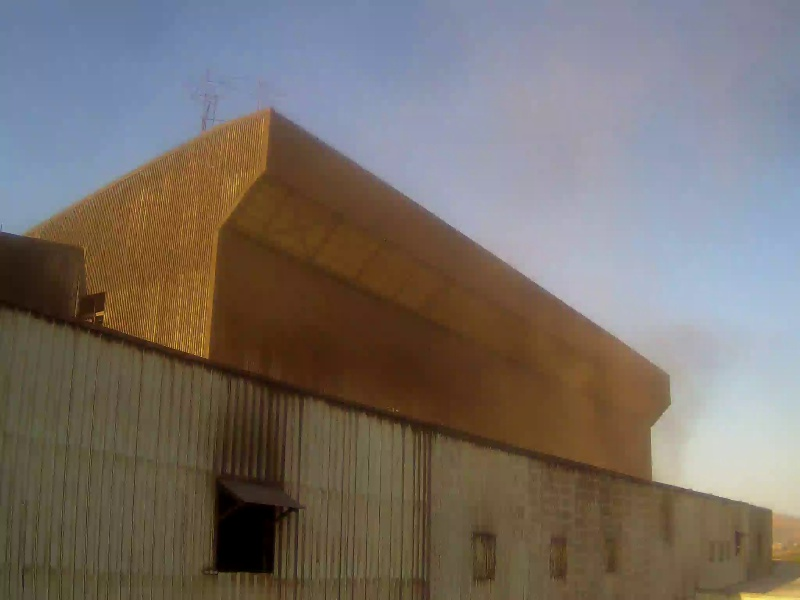Pessimo: (226, 122, 696, 541)
